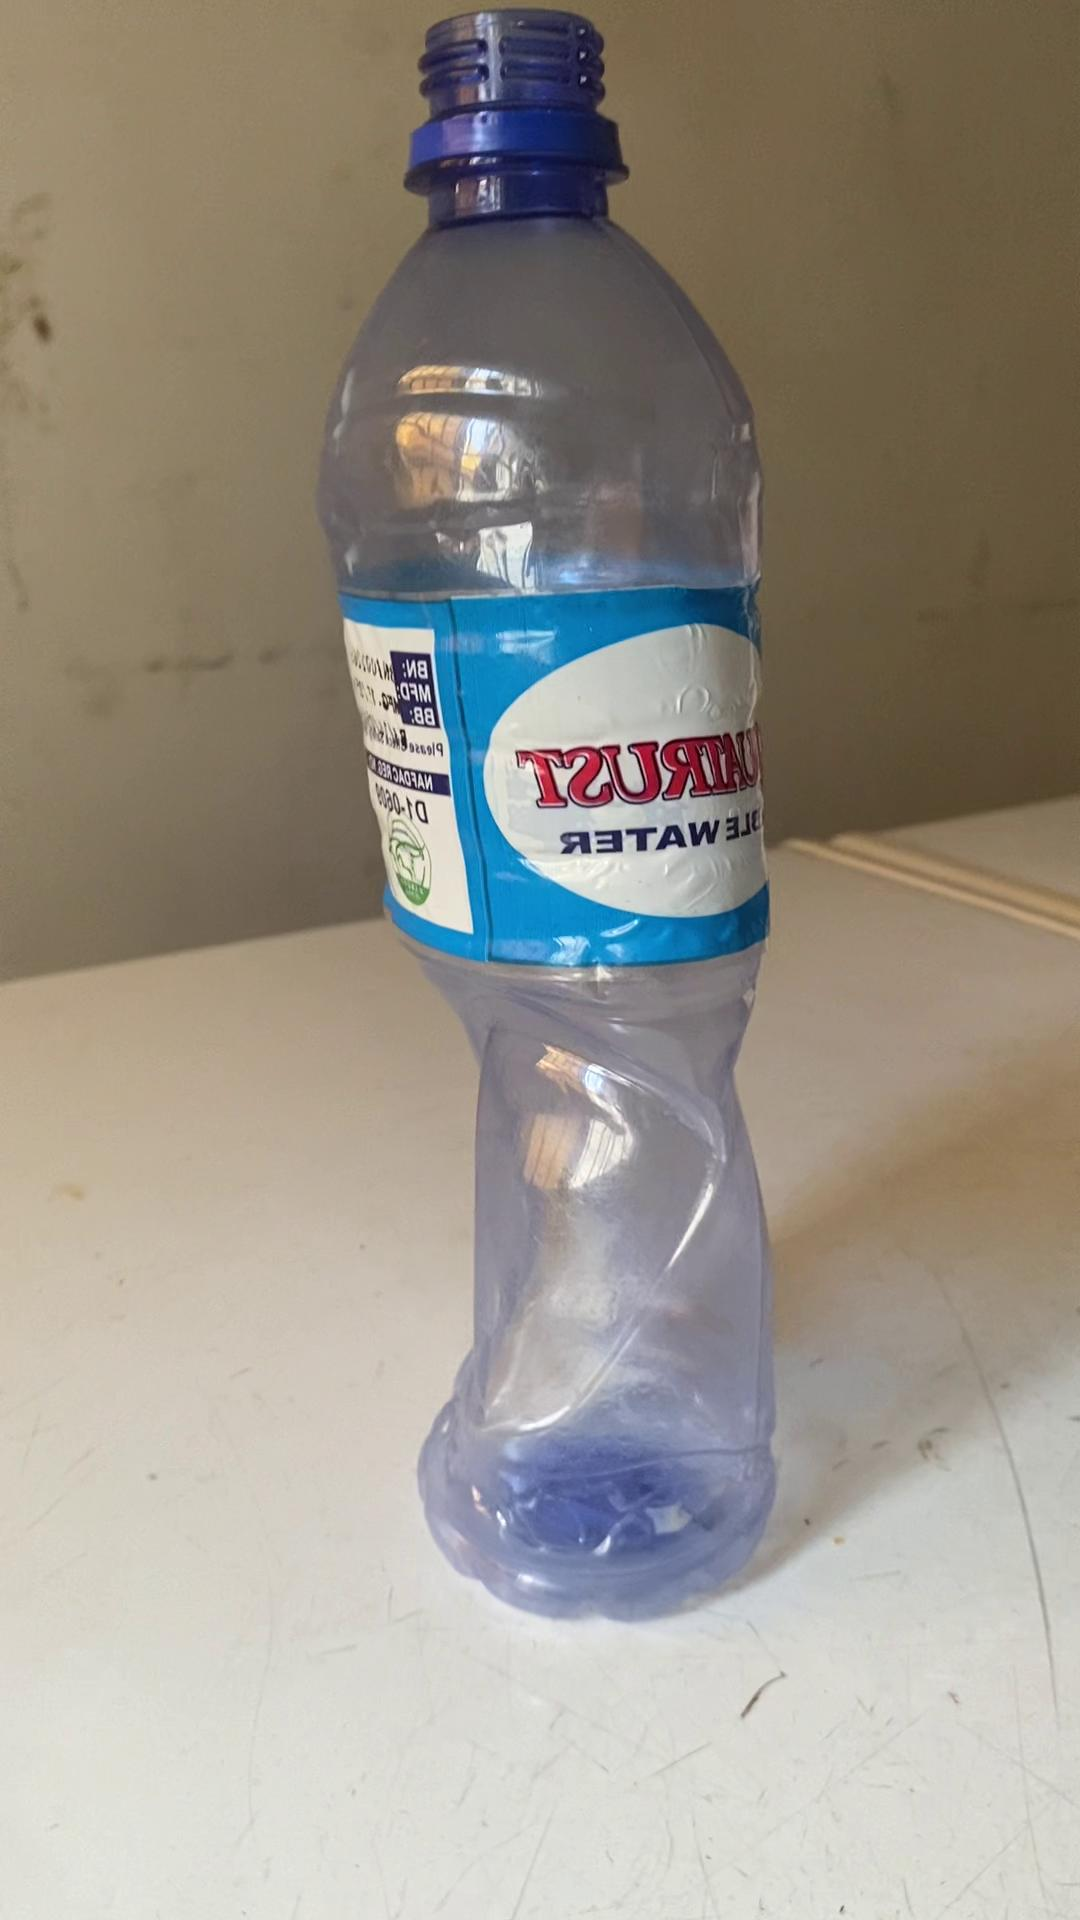crumbled: (311, 0, 793, 1619)
label: (345, 580, 766, 960)
no-cap: (397, 0, 626, 174)
